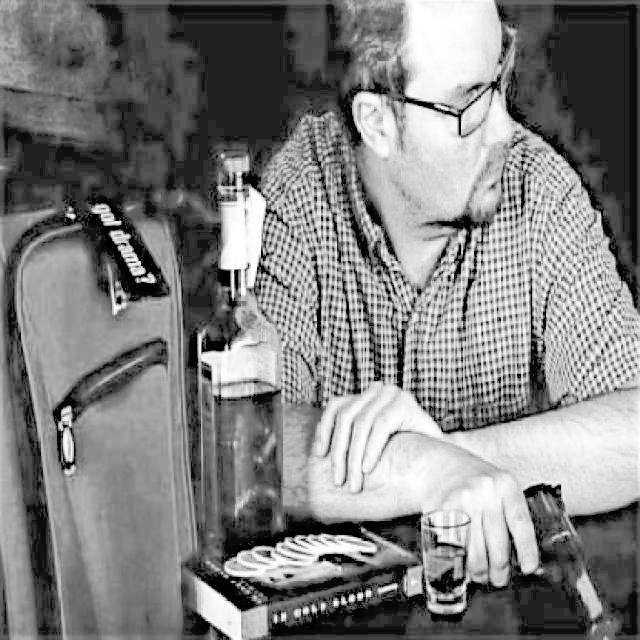Person: (249, 0, 640, 589)
